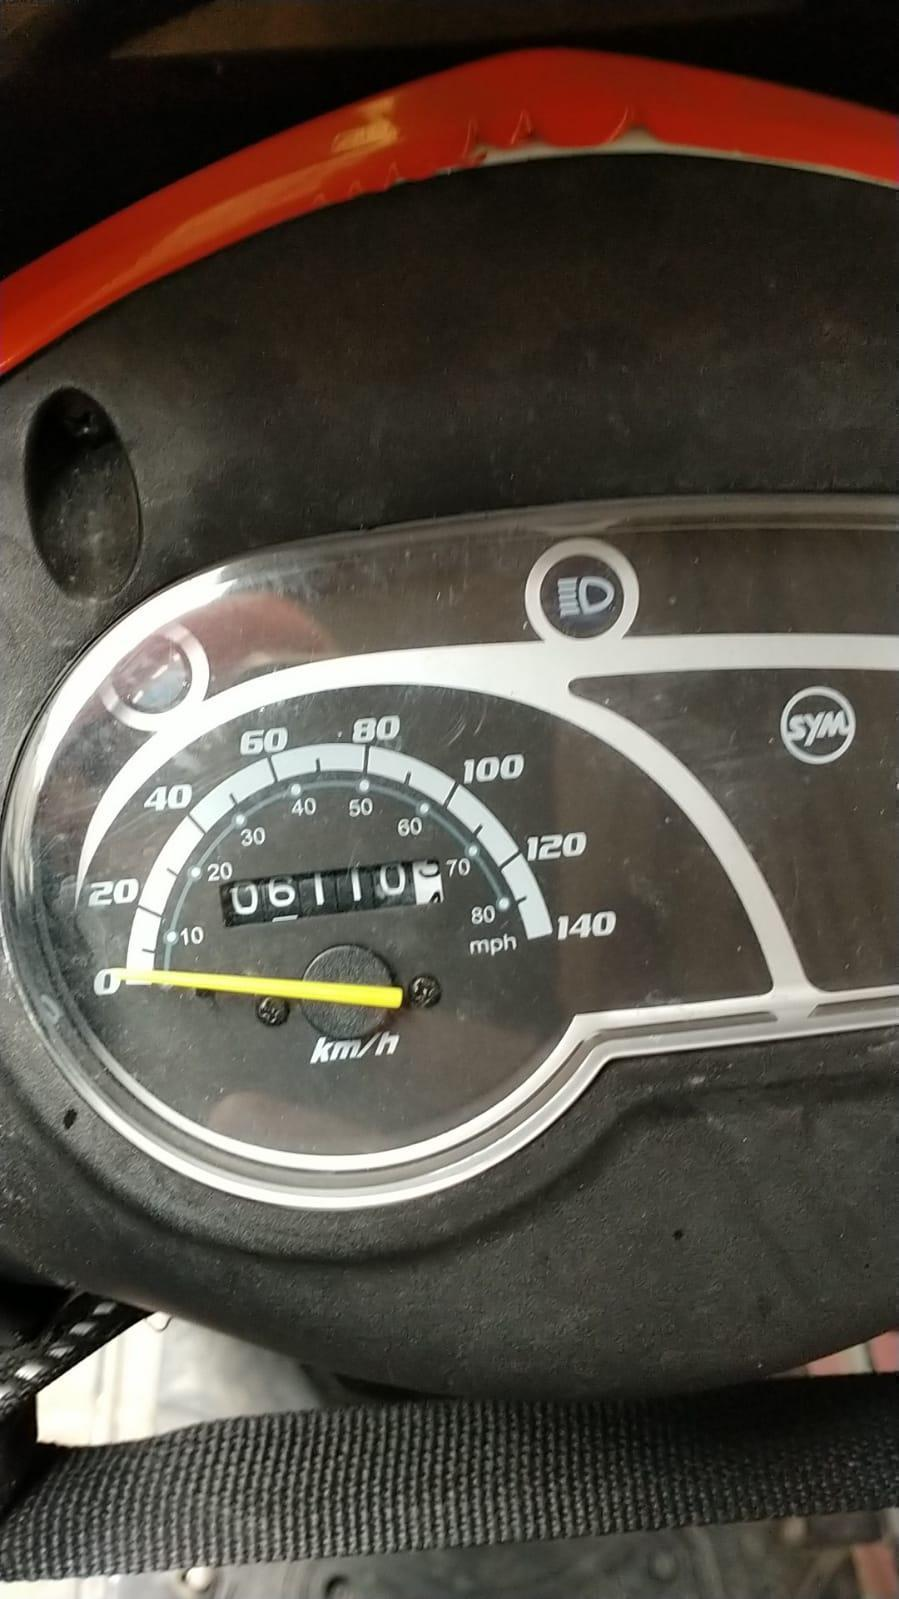0: (377, 858, 408, 906), (228, 880, 259, 917), (220, 859, 234, 882)
1: (345, 861, 364, 908), (308, 866, 328, 914)
3: (413, 856, 443, 886)
6: (263, 870, 300, 912)
odometer: (218, 856, 449, 928)
